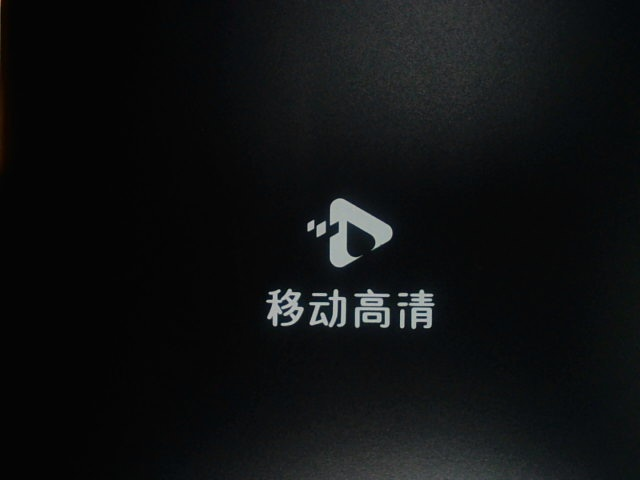AO_MobileHD: (233, 175, 440, 340)
